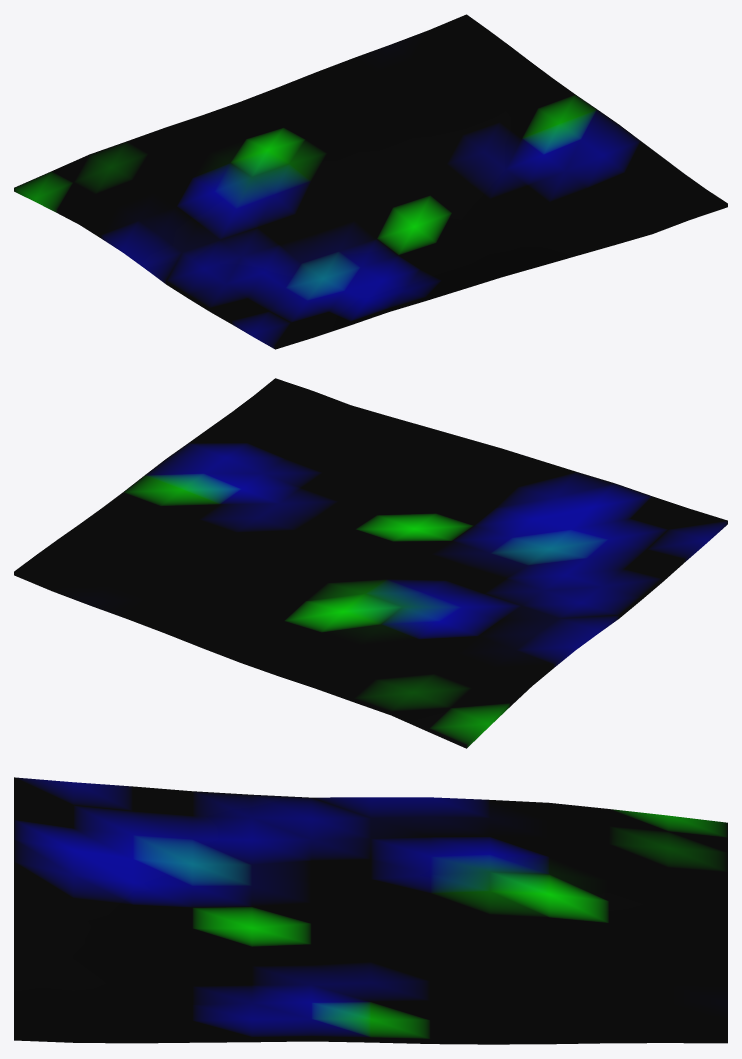
File: coast_23_0.glb
The picture shows the model from 3 angles, top to bottom: view 1: azimuth 30°, elevation 25°; view 2: azimuth 150°, elevation 25°; view 3: azimuth 270°, elevation 25°; orthographic projection. The views are drawn at different scales.
Visible parts, largest first — view 1: terrain; view 2: terrain; view 3: terrain.
Part boxes in pixels (x1,y1,x2,y2): terrain: [14, 14, 727, 349]; terrain: [14, 378, 727, 748]; terrain: [14, 777, 727, 1044].
Size of the model in its own units: 192 by 27.91 by 192.
